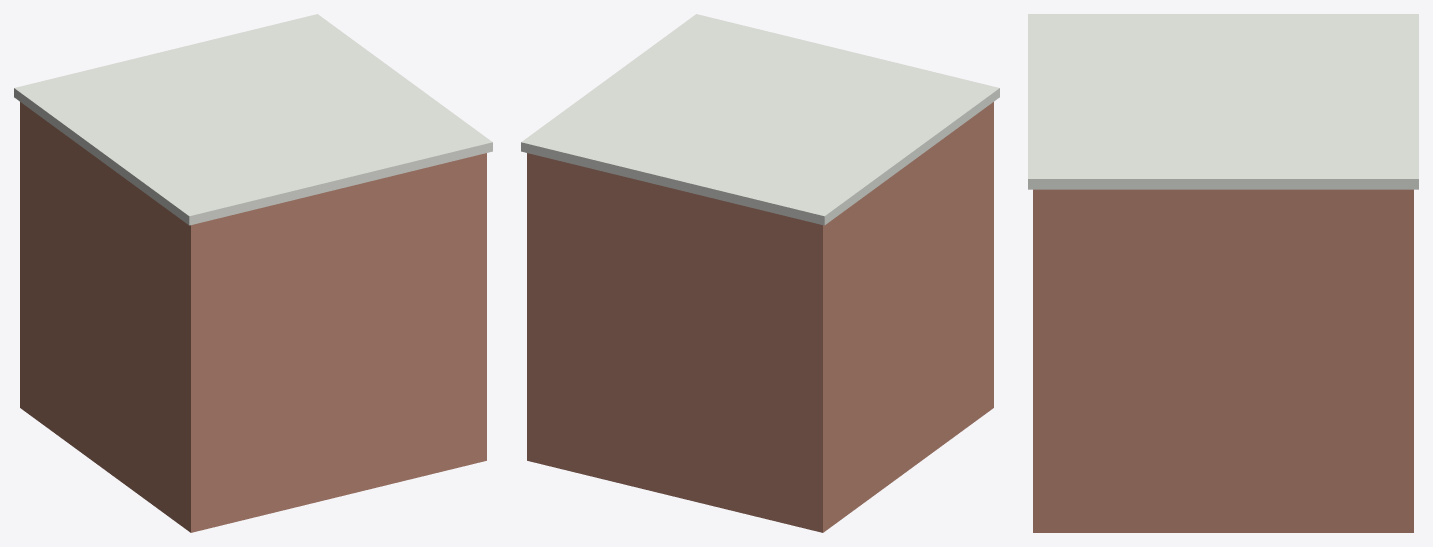
The model's file is building_clay.glb.
3 views of the same model, side by side, from view 1: azimuth 30°, elevation 25°; view 2: azimuth 150°, elevation 25°; view 3: azimuth 270°, elevation 25° (orthographic). The views are drawn at different scales.
Visible parts, largest first — view 1: building_clay; view 2: building_clay; view 3: building_clay.
Boxes of the visible parts, <box> form: building_clay: <box>14,14,492,532</box>; building_clay: <box>521,14,999,532</box>; building_clay: <box>1028,14,1418,532</box>.
Bounding box in the file's own units: 1.02 × 1.03 × 1.02.
